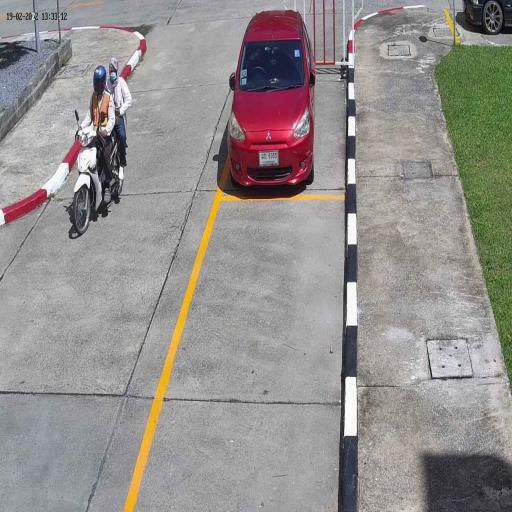car: (226, 10, 318, 188)
motorcycle: (69, 124, 104, 241)
